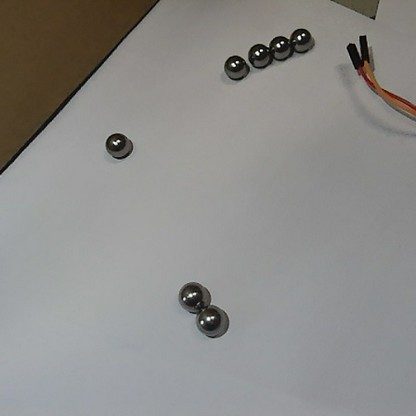ironball: (192, 301, 228, 338), (177, 279, 208, 311), (103, 130, 133, 161), (246, 40, 275, 68), (288, 25, 314, 51), (267, 33, 291, 61), (223, 53, 247, 81)
